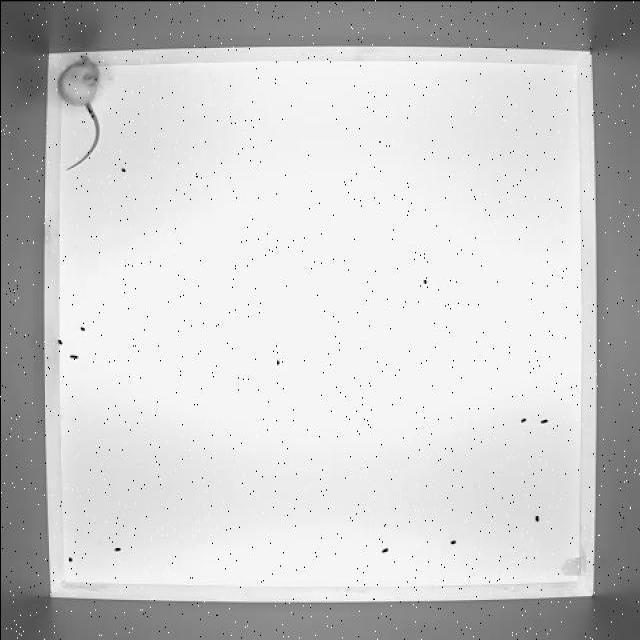rat: (49, 50, 109, 170)
